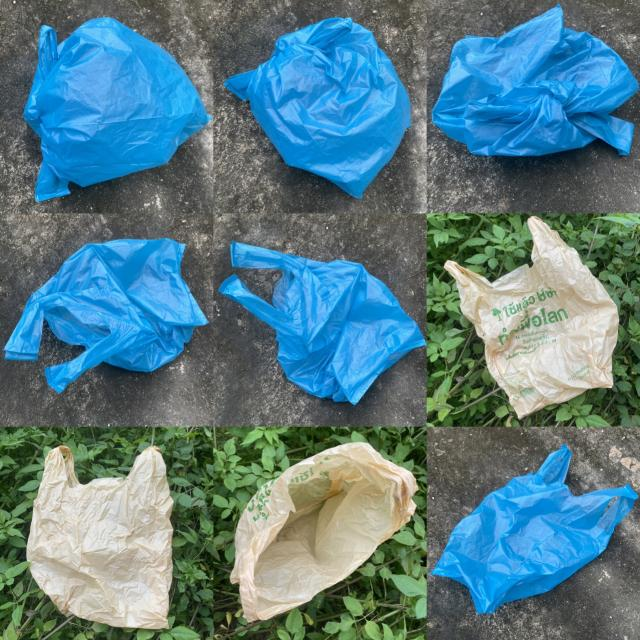Single-layer Plastic: (431, 445, 638, 614), (445, 216, 619, 417), (24, 18, 211, 201), (219, 241, 426, 404), (230, 442, 418, 621), (225, 18, 410, 198), (432, 5, 639, 156), (5, 239, 208, 392), (26, 446, 172, 629)
